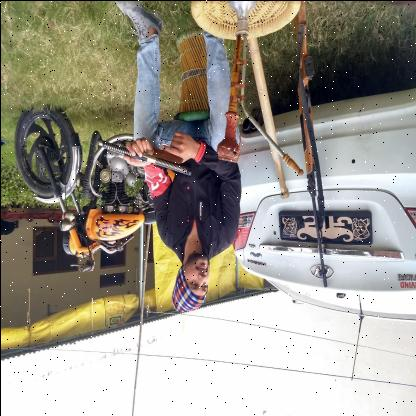rifle: (291, 0, 327, 288), (96, 130, 192, 177)
